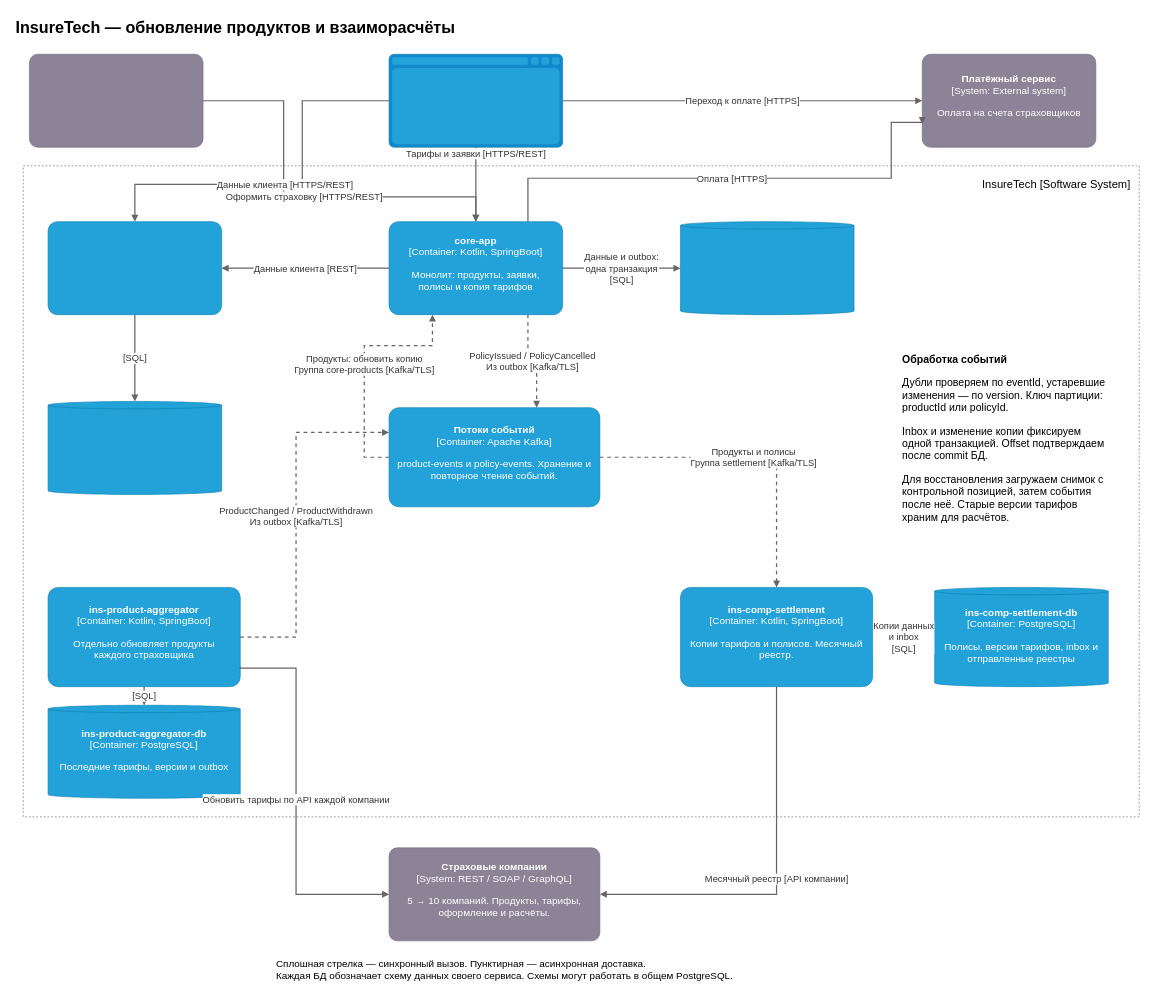
The diagram is 1168 pixels wide and 994 high, and some of its shapes have lost their labels. Each missing label, with the box of its shape:
client-info [Container: Kotlin, SpringBoot] Хранит и обновляет данные клиентов: (47, 221, 222, 315)
client-info-db [Container: PostgreSQL] ФИО, контакты и документы: (47, 401, 222, 494)
core-db [Container: PostgreSQL] Заявки, полисы, тарифы, inbox и outbox: (680, 221, 854, 315)
InsureTech Web [Container: JavaScript, React] Продукты, заявки и полисы: (388, 54, 563, 147)
Партнёры [System: External system] Оформление страховок: (29, 54, 203, 147)
